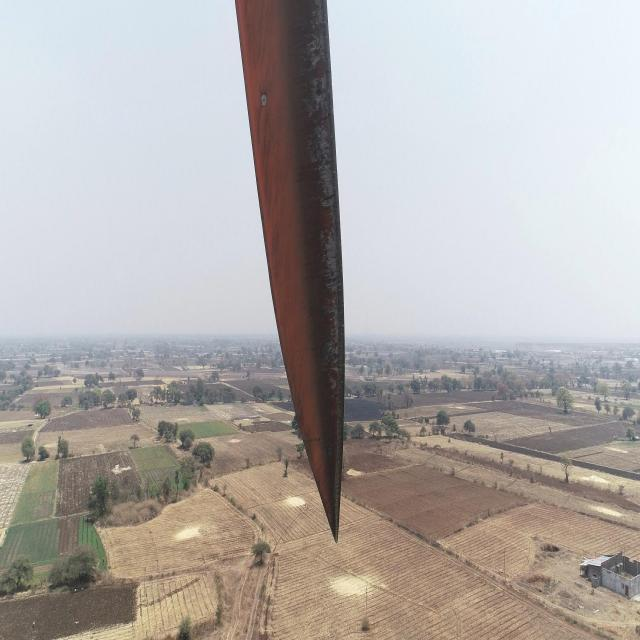PU-tape: (304, 0, 337, 399)
